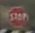stop: (6, 4, 29, 28)
